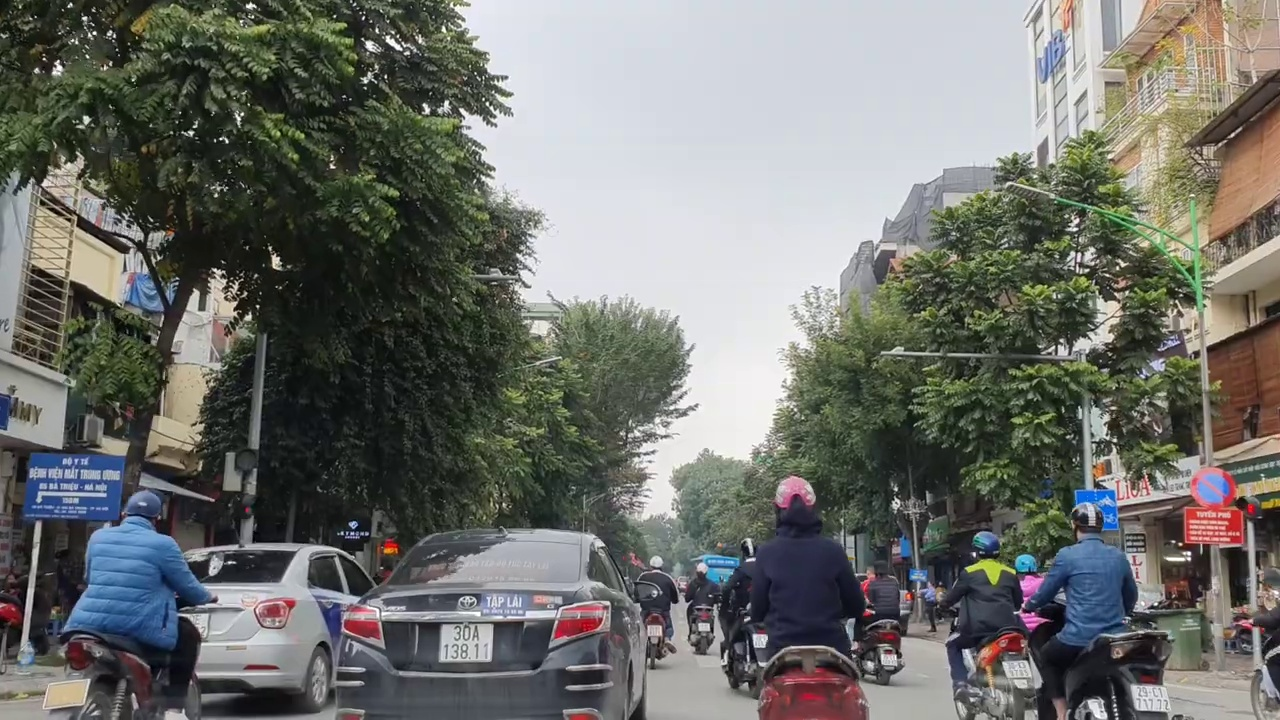person: (439, 619, 493, 662), (1129, 681, 1172, 713), (1002, 661, 1033, 679)
